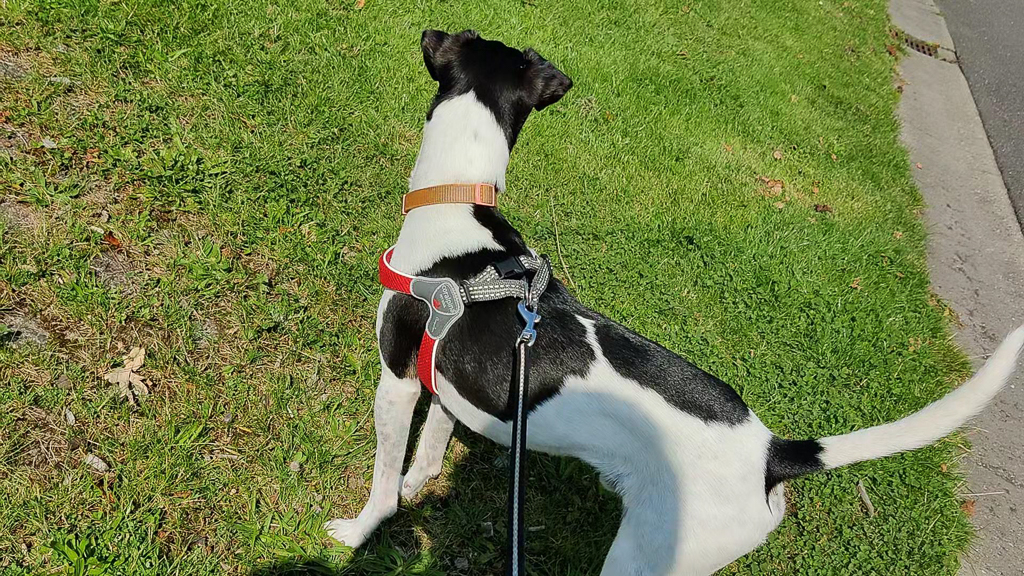Dog: (310, 17, 1024, 576)
